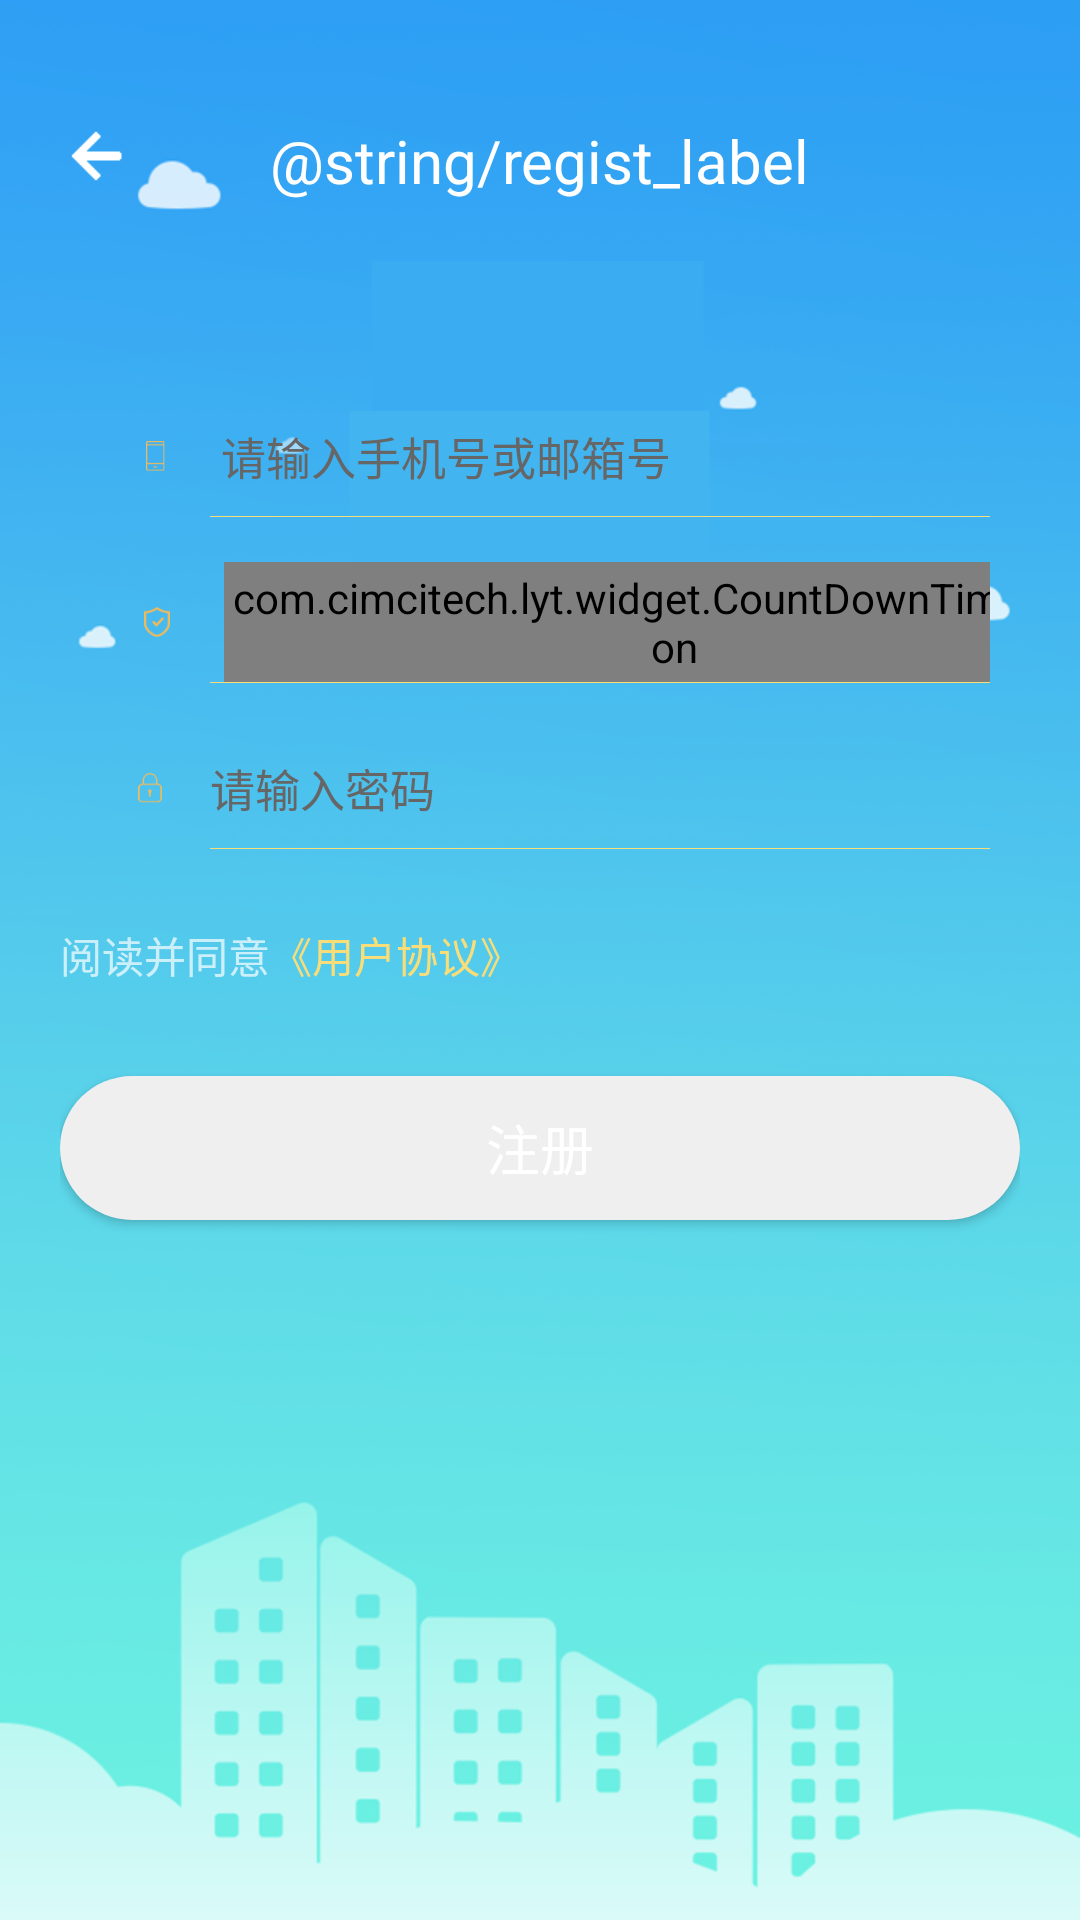

Point at icon controls on the screen. Image size 1080x1920, points as (x,y).
back: (96,156)
